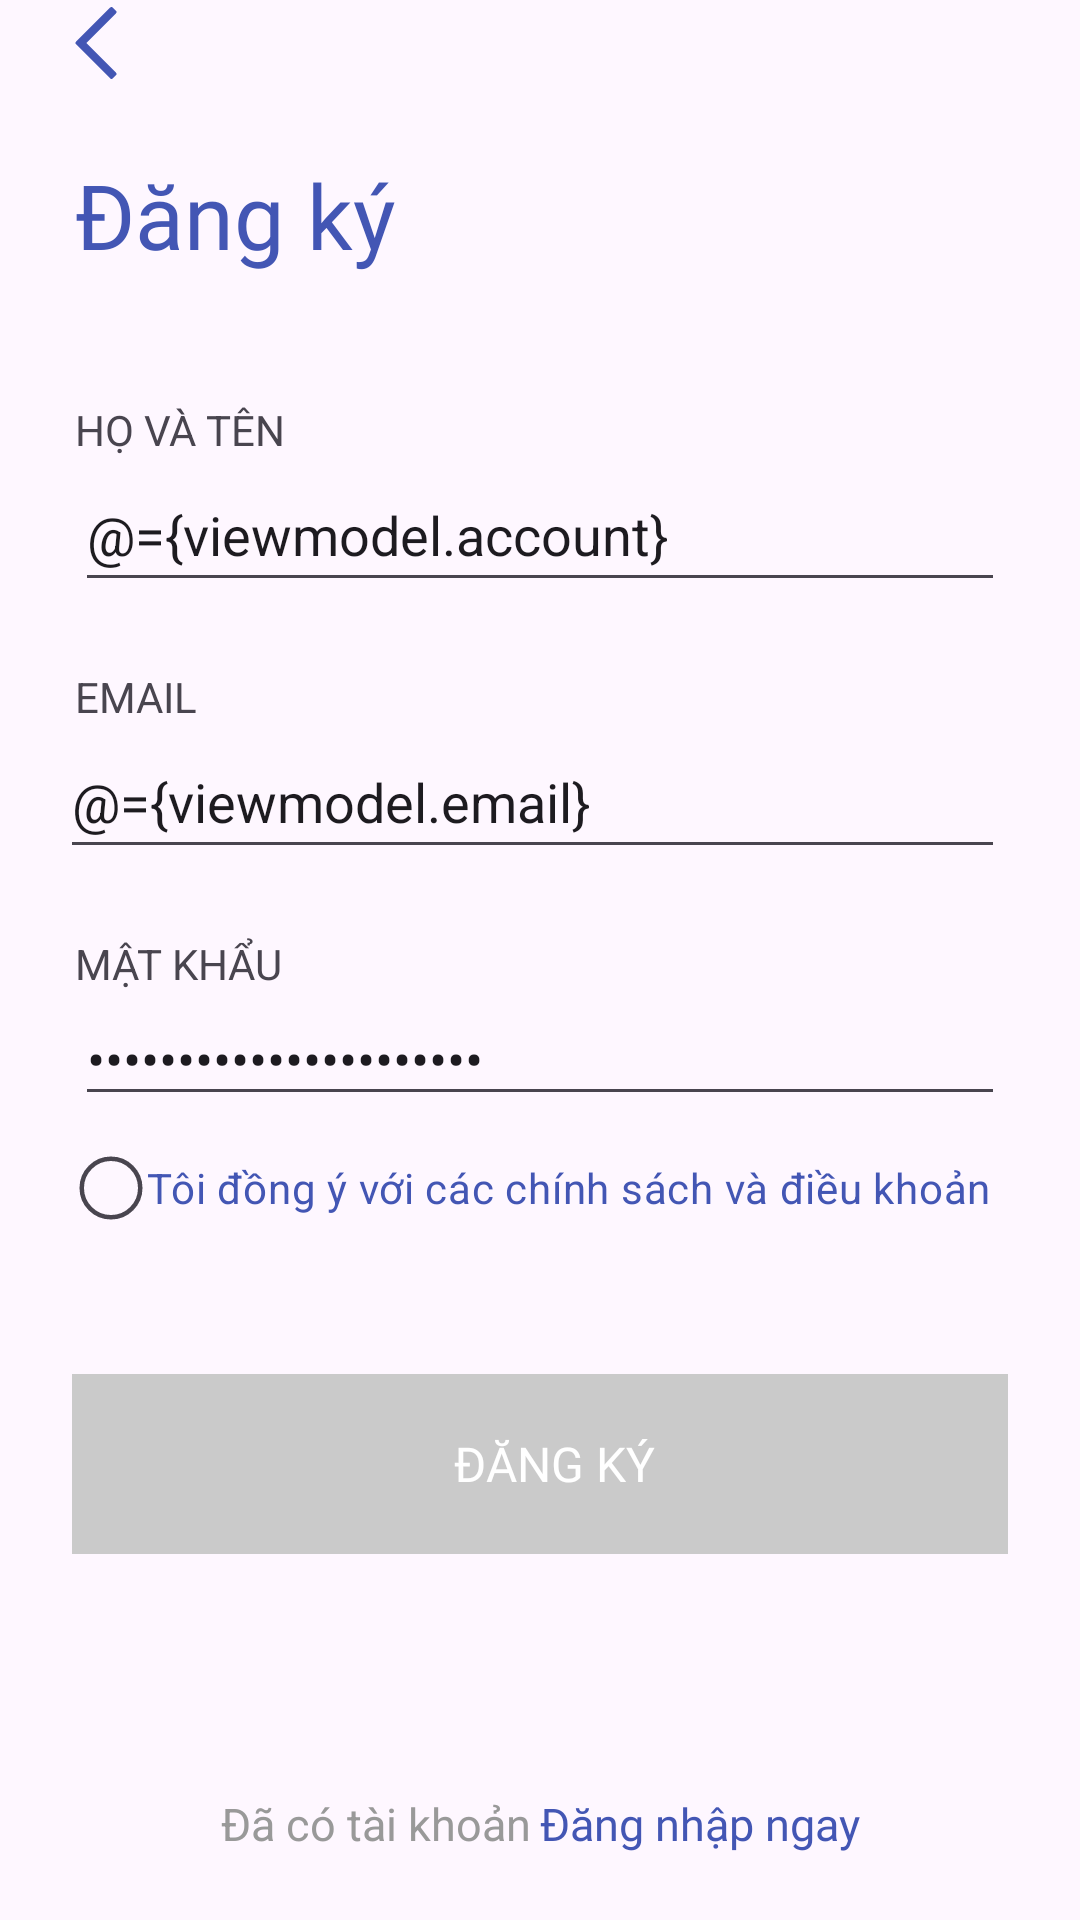

Screen size 1080x1920. Icon name, then its center in pixels as [x,y]:
Nút quay trở lại: [96,43]
